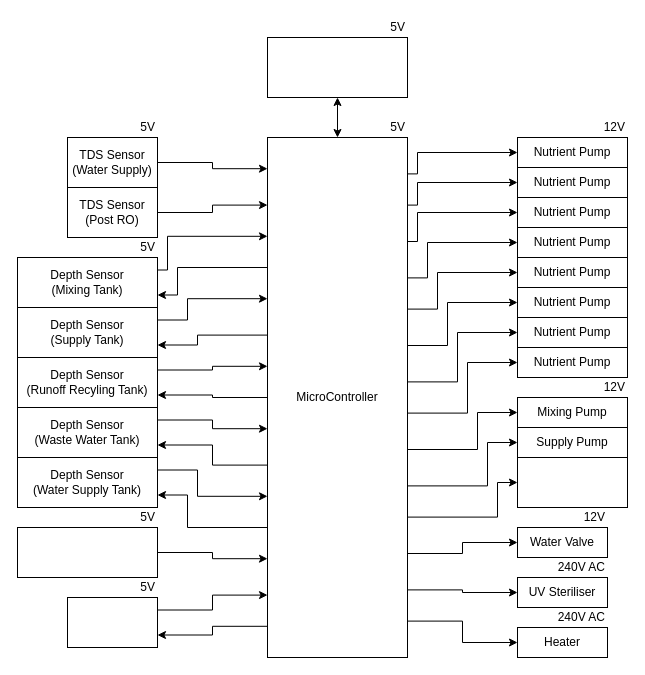
This 645x675 diagram has some shape labels left out. The centre of each missing label's shape, as x and y in pixels:
"ISE Sensor Control Board" belongs at point 112,622.
"Raspberry Pi" belongs at point 337,67.
"Runoff Recycling Pump" belongs at point 572,482.
"Solution Temperature Sensor" belongs at point 87,552.
